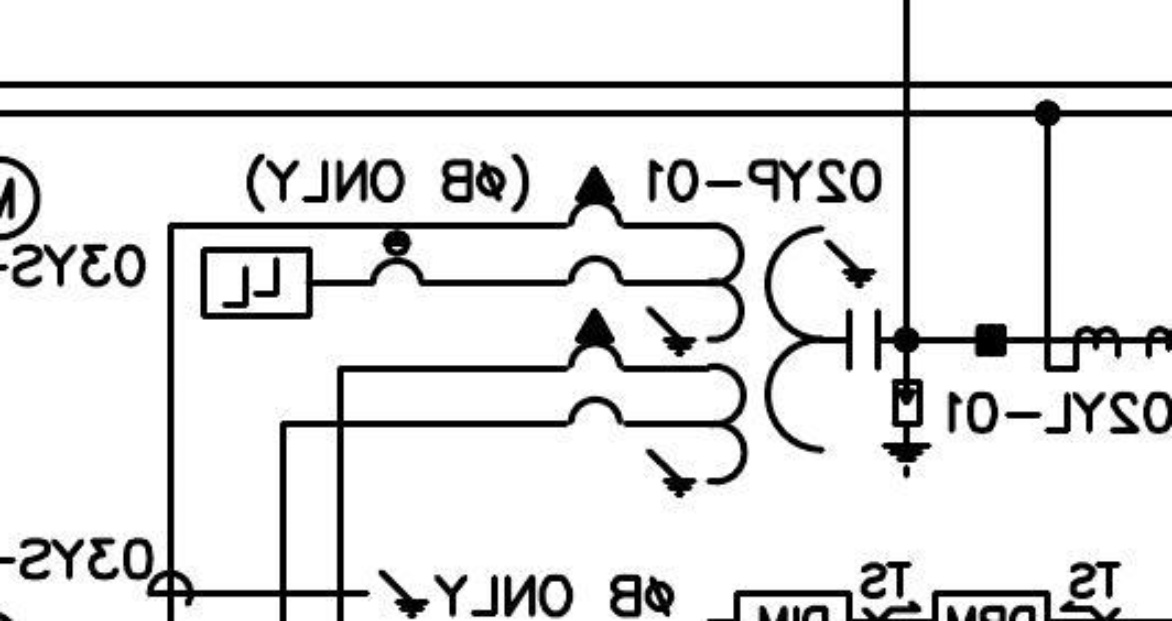115_cvt_1p: (562, 164, 883, 500)
115_la: (880, 378, 933, 480)
LL: (200, 246, 314, 320)
